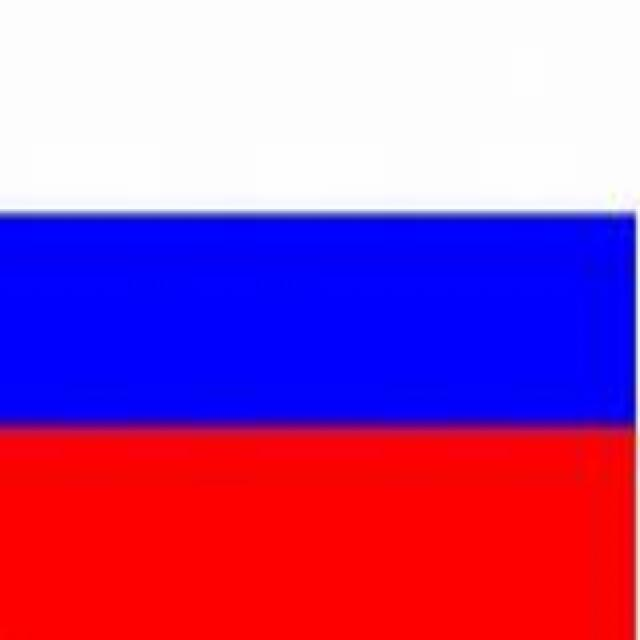russia: (15, 9, 640, 621)
